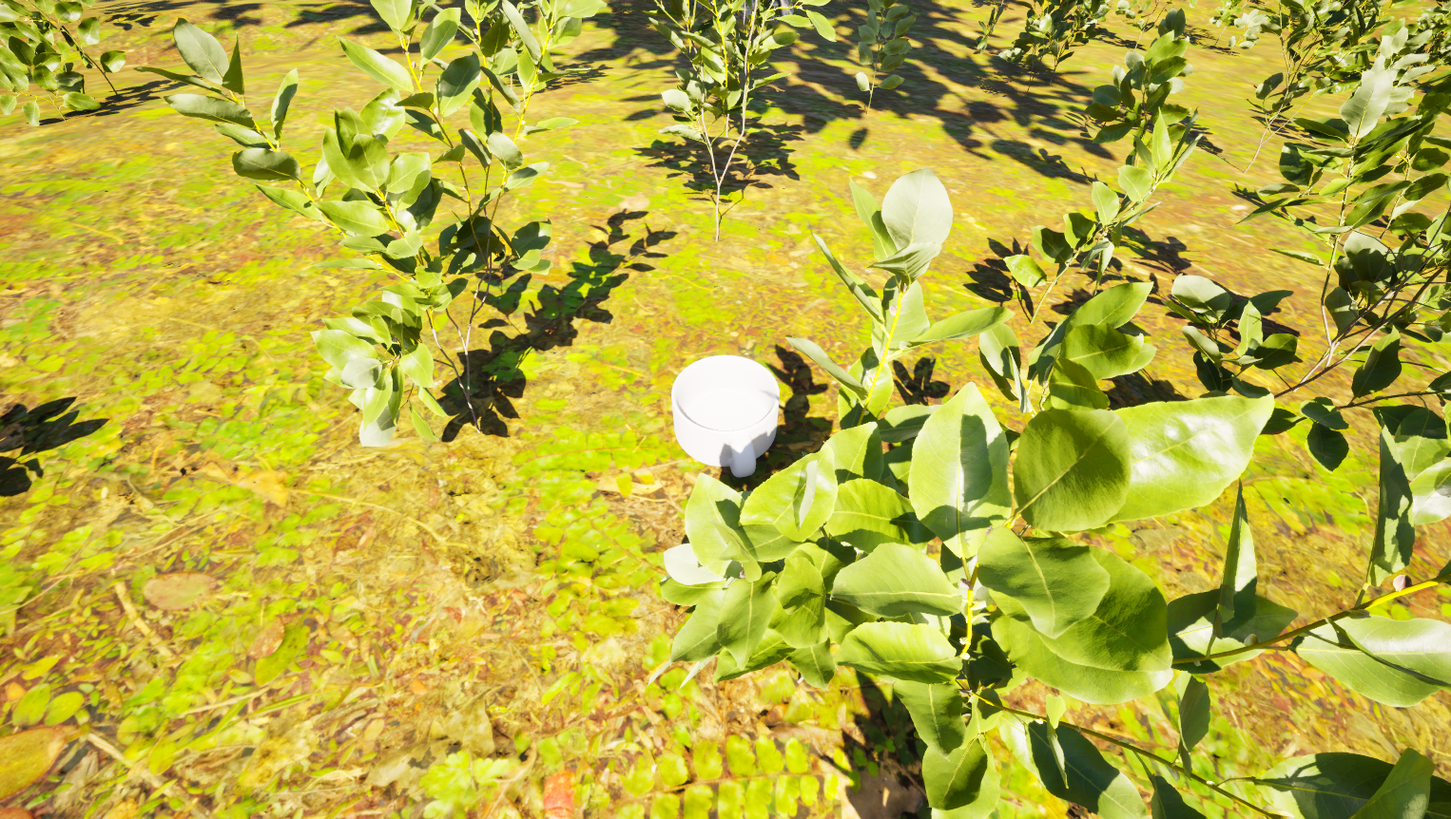Teacup: (647, 345, 792, 493)
